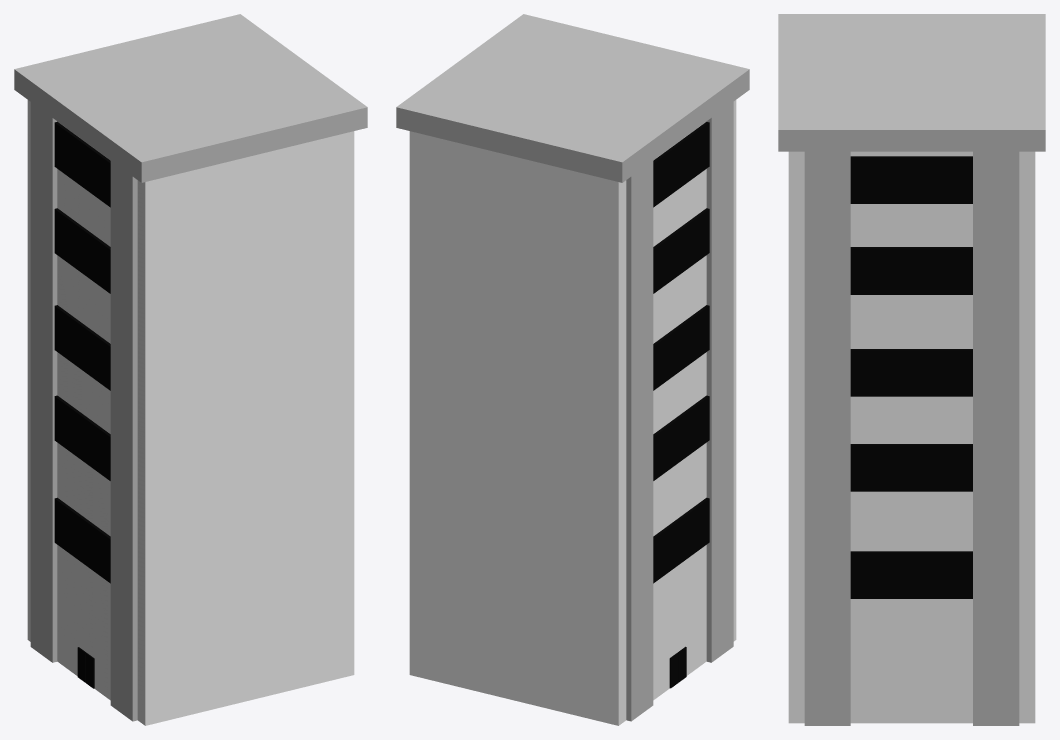
The model's file is Building_model.fbx.
The picture shows the model from 3 angles, left to right: view 1: azimuth 30°, elevation 25°; view 2: azimuth 150°, elevation 25°; view 3: azimuth 270°, elevation 25°; orthographic projection. The views are drawn at different scales.
Parts seen in each view (by area): view 1: Building; view 2: Building; view 3: Building.
Part boxes in pixels (x1,y1,x2,y2): Building: (14,14,367,725); Building: (396,14,749,725); Building: (778,14,1045,725).
Bounding box in the file's own units: 135 × 326 × 132.
